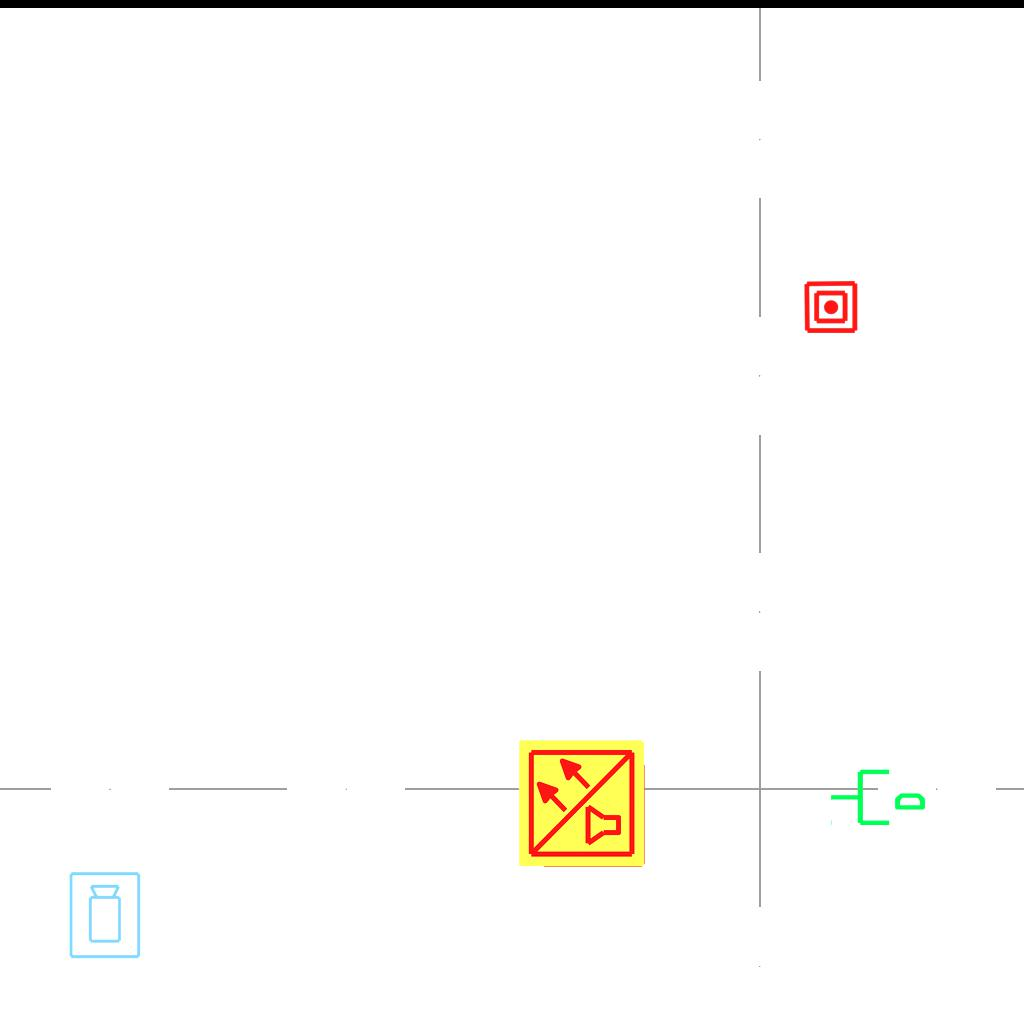Datenanschluss_einfach: (828, 761, 928, 830)
KFO_Kamera_mit_Festobjektiv: (67, 870, 144, 961)
NAM-Nichtautomatischer_Melder: (803, 279, 859, 335)
OKW_Multisensormelder_(Kombination_optischer_Rauch-Kahlenmonoxid_Waerme-Melder): (516, 737, 648, 869)
